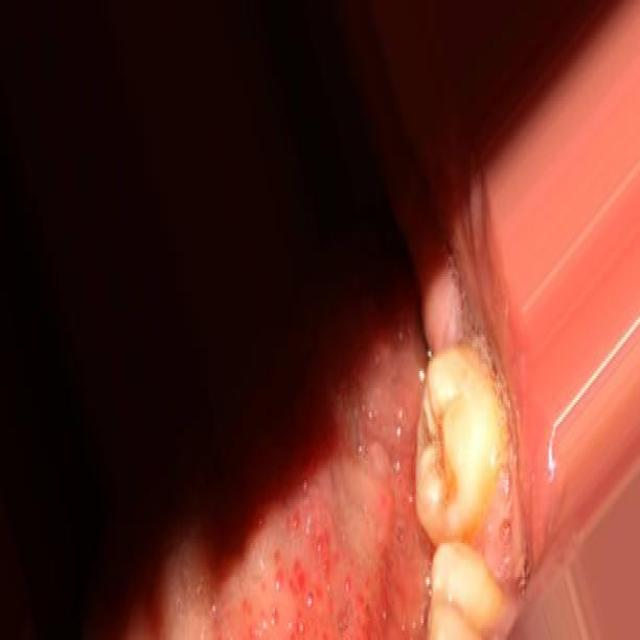caries: (414, 378, 469, 517)
